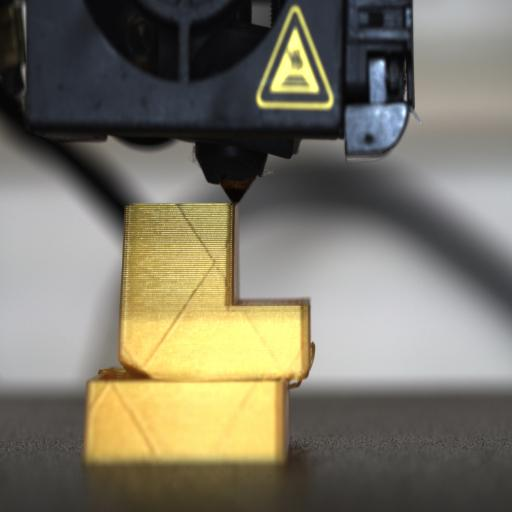layer_shift: (86, 355, 310, 383)
